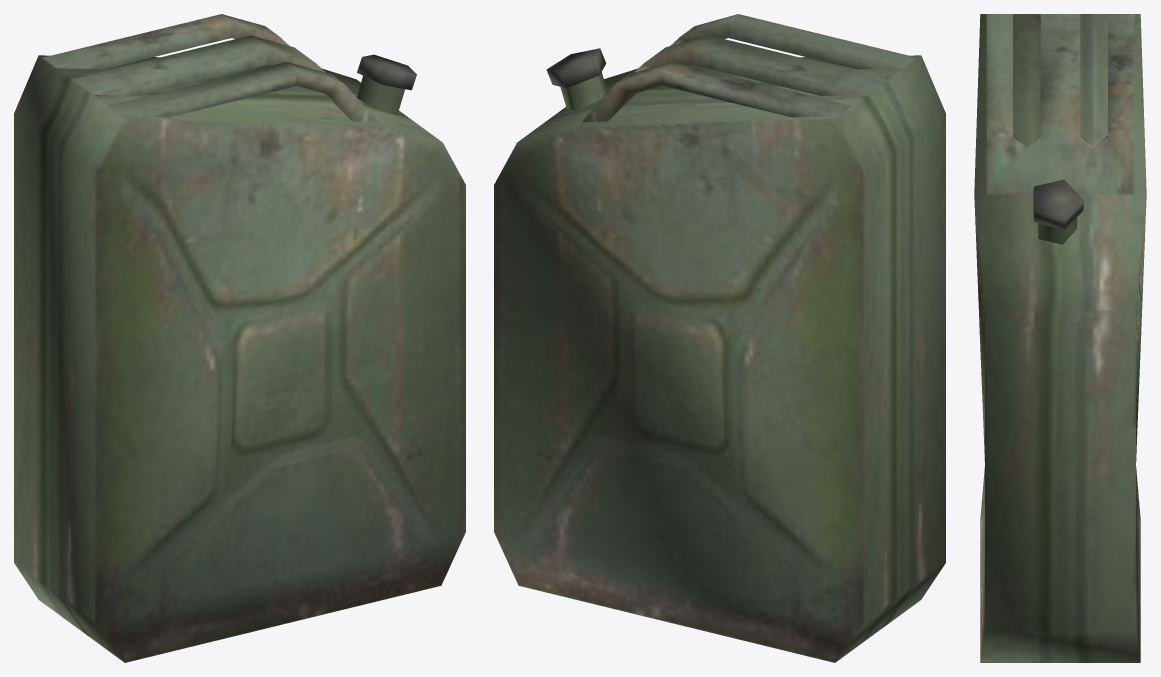
File: PSX Jerry Can.fbx
3 renders of one model, left to right at view 1: azimuth 30°, elevation 25°; view 2: azimuth 150°, elevation 25°; view 3: azimuth 270°, elevation 25°, orthographic. The views are drawn at different scales.
Visible parts, largest first — view 1: PSX Jerry Can; view 2: PSX Jerry Can; view 3: PSX Jerry Can.
Part boxes in pixels (left/top/right/bottom): PSX Jerry Can: left=14, top=14, right=465, bottom=662; PSX Jerry Can: left=494, top=14, right=945, bottom=662; PSX Jerry Can: left=974, top=14, right=1146, bottom=662.
Bounding box in the file's own units: 337 × 473 × 146.
Materials: 1 (1 with a texture image).
